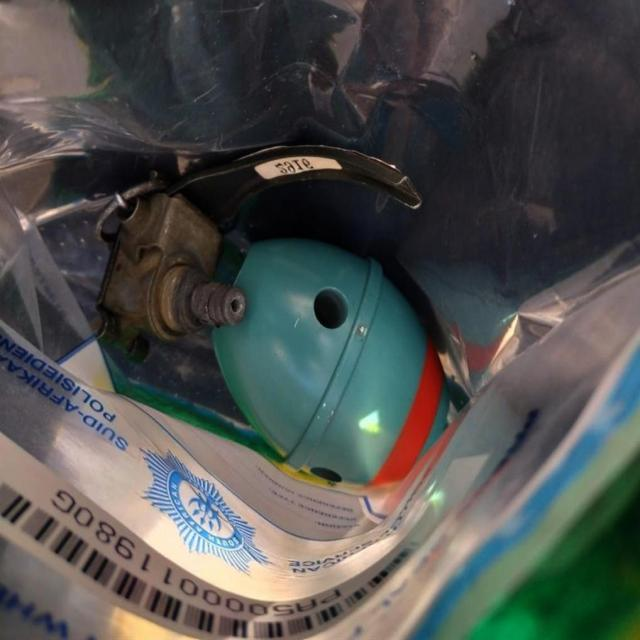grenade: (94, 142, 451, 488)
